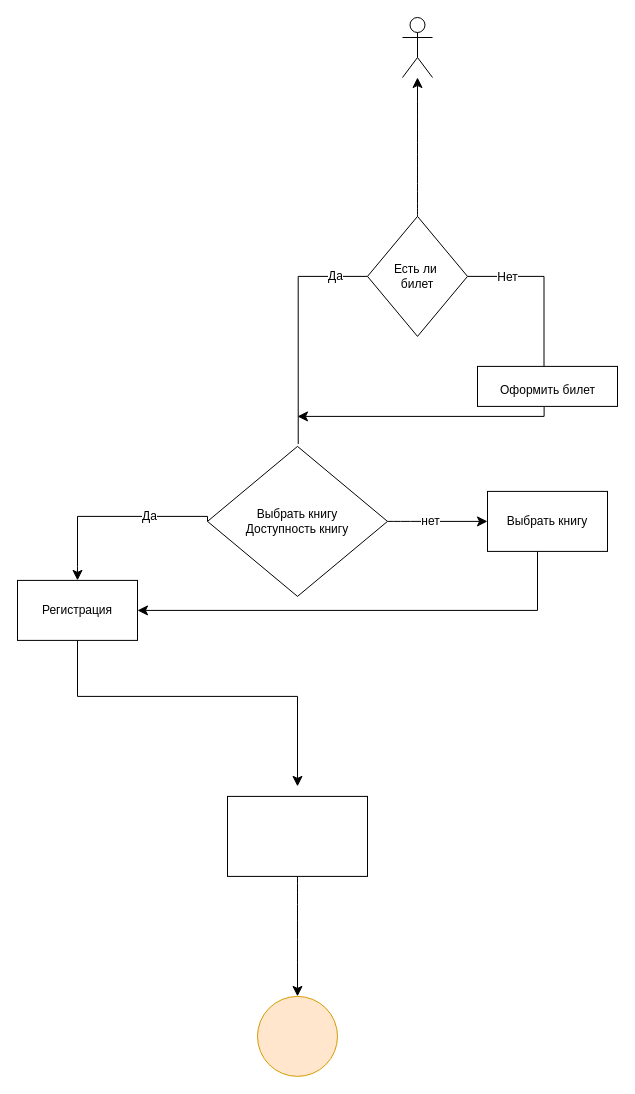
Image size: 635x1094. Some labels were removed from this diagram. The shapes that lost their labels are listed below. From the top down, each one's centre as x and y in pixels, then its label:
the point at 417,47: Actor
the point at 297,835: Получить книгу
